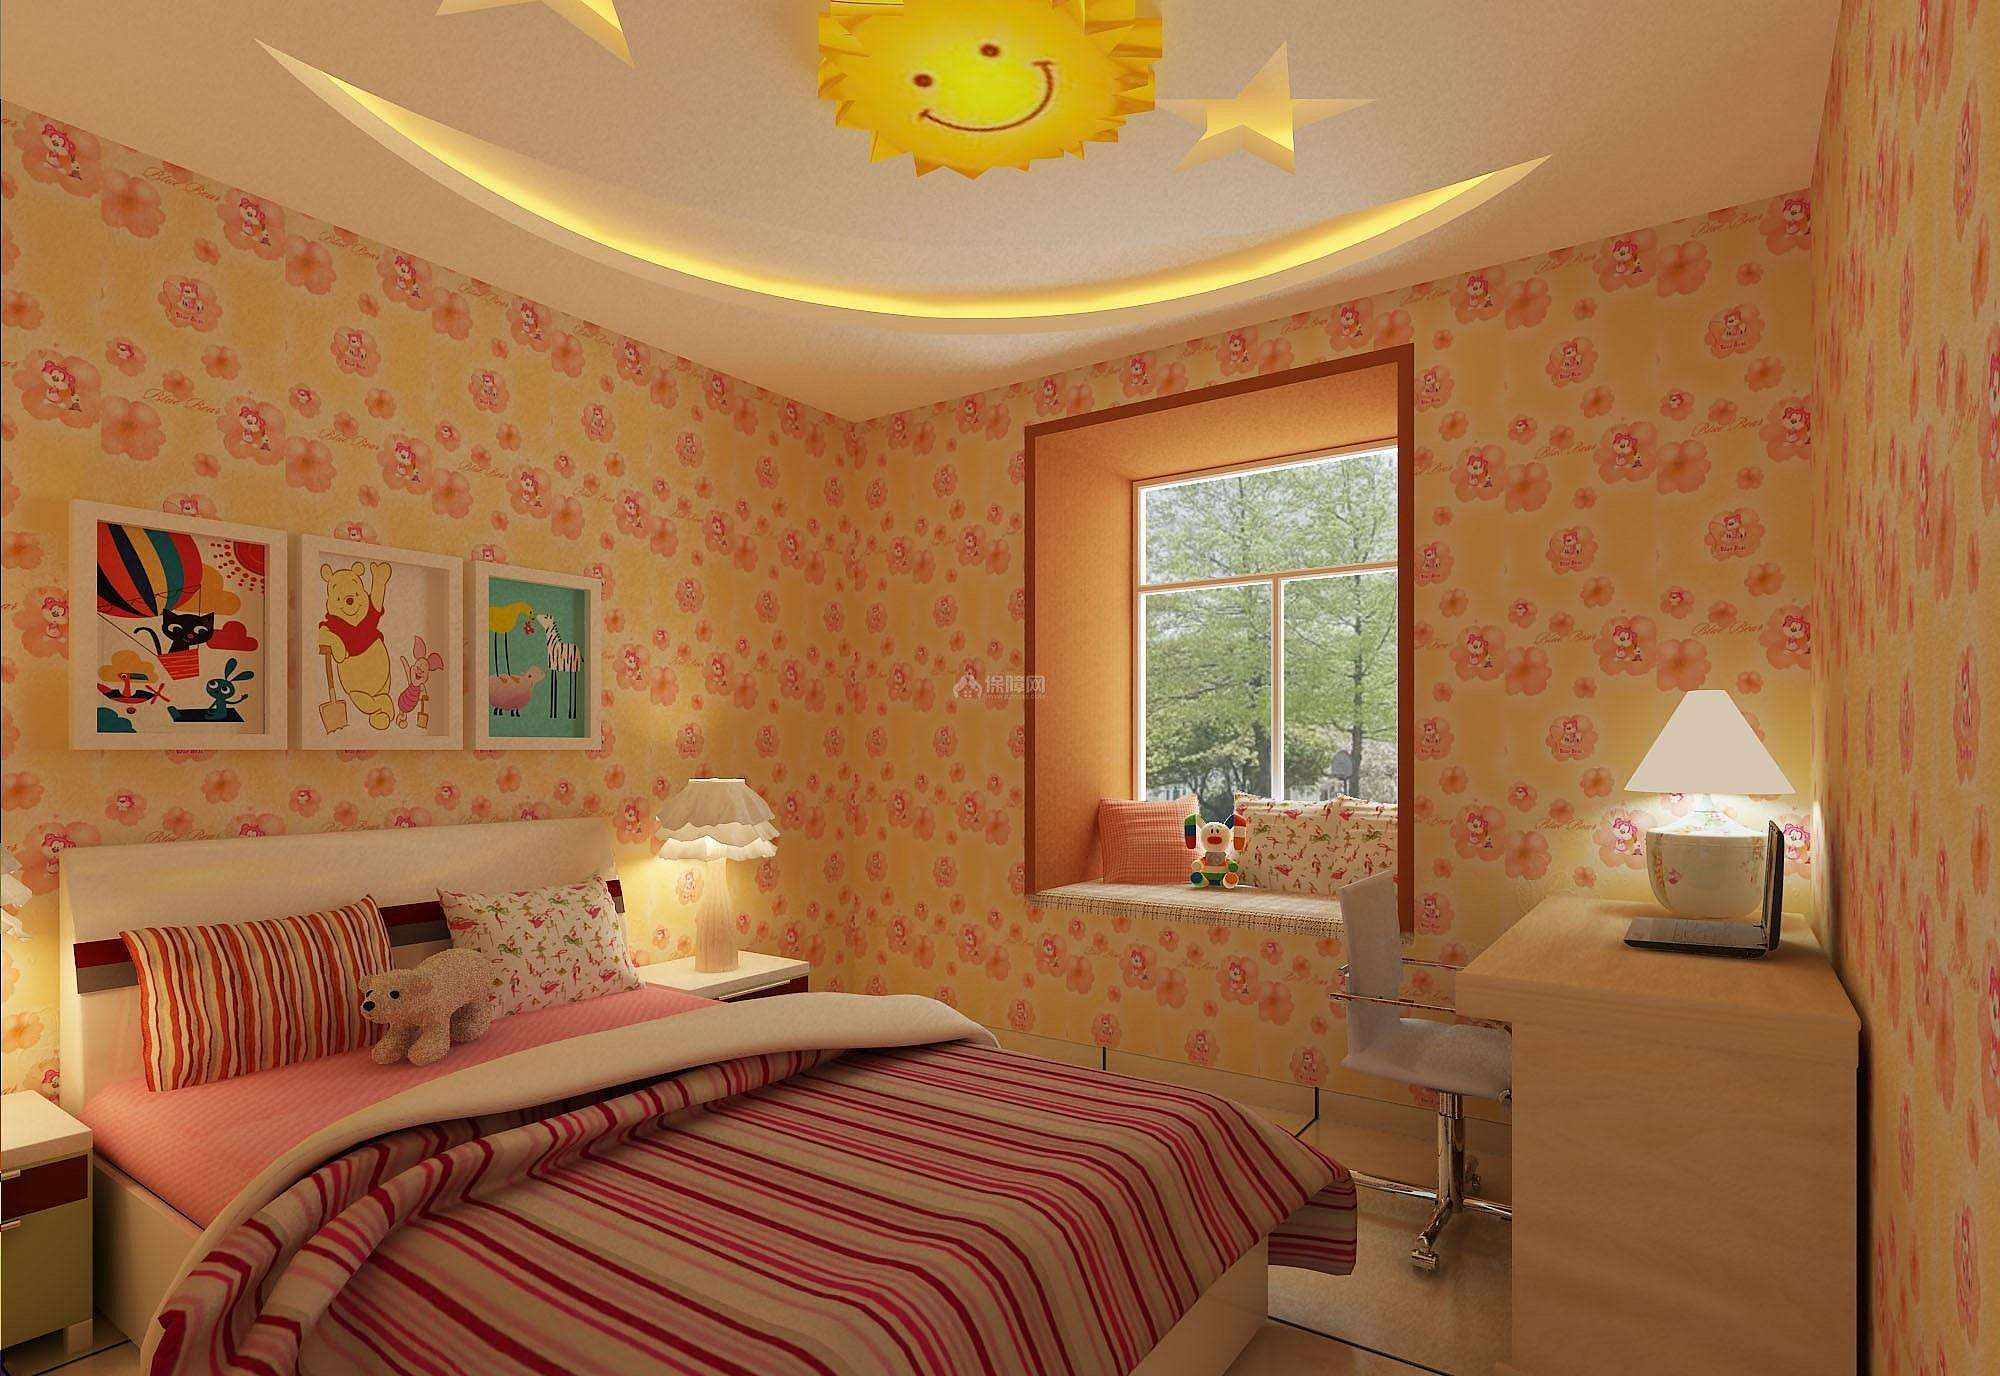床: (33, 969, 1362, 1368)
枕头: (122, 883, 629, 1057), (1099, 782, 1401, 908)
灯: (1606, 658, 1787, 914), (614, 782, 780, 982)
